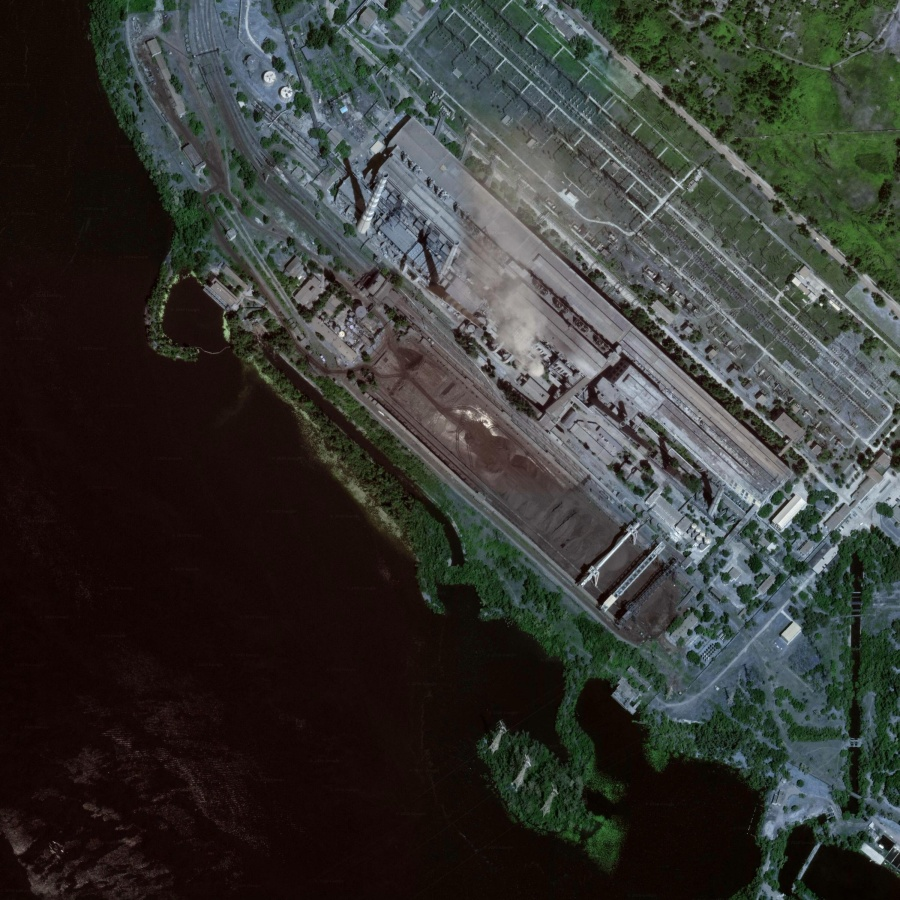PowerPlant: (313, 143, 746, 642)
